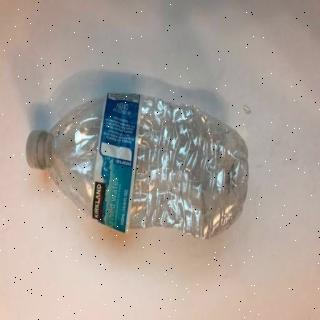Plastic-bottle: (25, 90, 252, 244)
